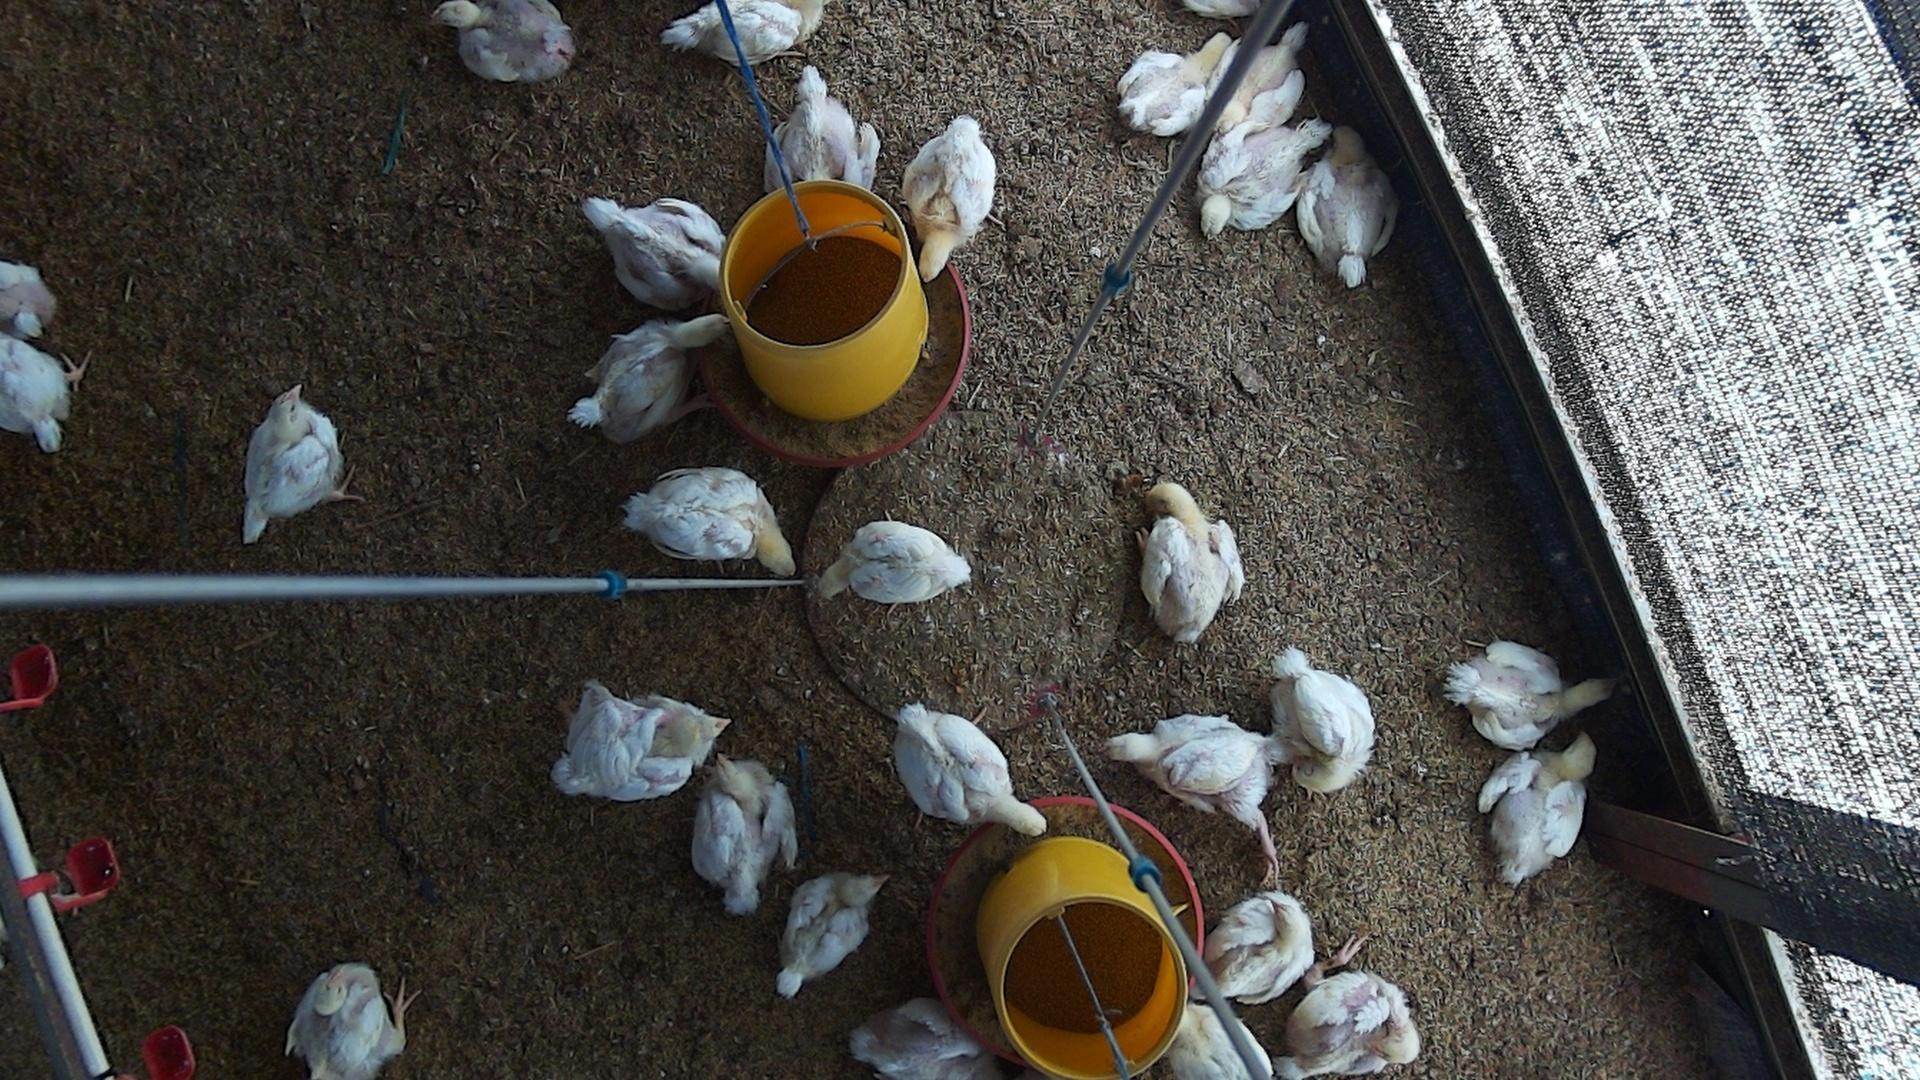ayam_broiler: (1104, 716, 1280, 886), (568, 310, 732, 443), (553, 678, 728, 799), (1273, 936, 1419, 1079), (895, 703, 1047, 832), (243, 382, 363, 543), (624, 465, 795, 578), (1135, 480, 1245, 644), (1444, 641, 1606, 749), (1481, 733, 1596, 885), (691, 757, 798, 914), (582, 195, 727, 306), (286, 963, 421, 1080), (1296, 127, 1393, 287), (1200, 119, 1328, 237), (905, 116, 997, 280), (762, 67, 880, 191), (1274, 651, 1374, 790), (777, 872, 886, 994), (816, 520, 972, 604), (1200, 891, 1312, 1002), (1120, 33, 1240, 135), (430, 0, 575, 82), (0, 334, 94, 452), (661, 0, 822, 67), (1209, 24, 1307, 133), (851, 997, 982, 1077), (1163, 1000, 1271, 1080), (0, 258, 57, 339)
